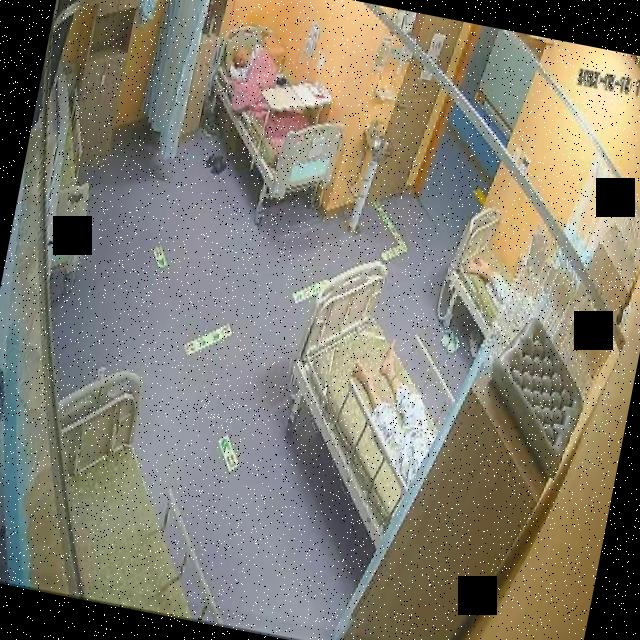bed: (22, 356, 268, 628), (265, 252, 468, 548), (193, 22, 360, 208), (437, 202, 525, 340)
lie: (334, 331, 456, 489), (216, 31, 314, 130)
patient: (336, 332, 454, 489), (224, 33, 268, 90)
